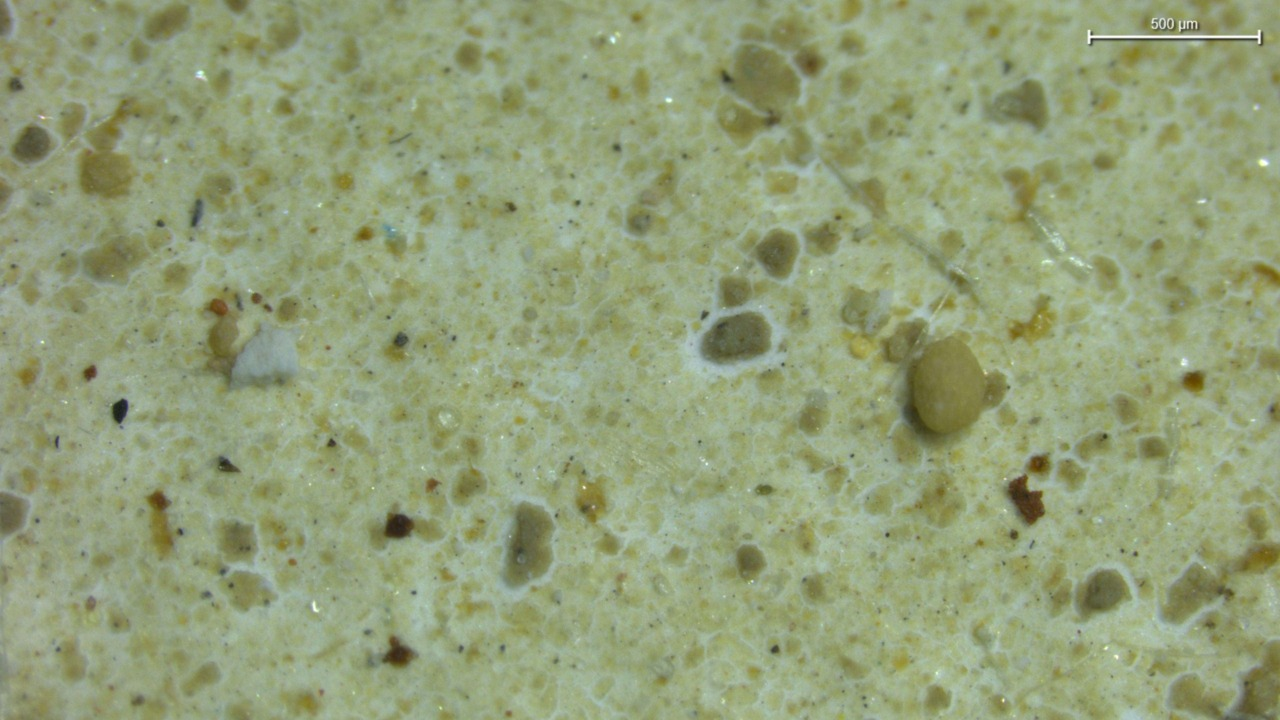microplastic_fragment: (909, 336, 987, 434), (231, 324, 299, 387)
